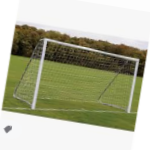goals: (14, 38, 139, 110)
